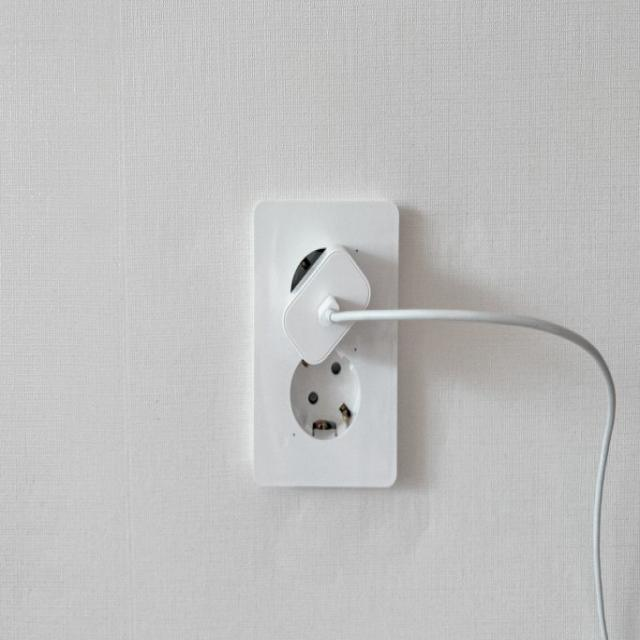typeb: (214, 199, 420, 523)
